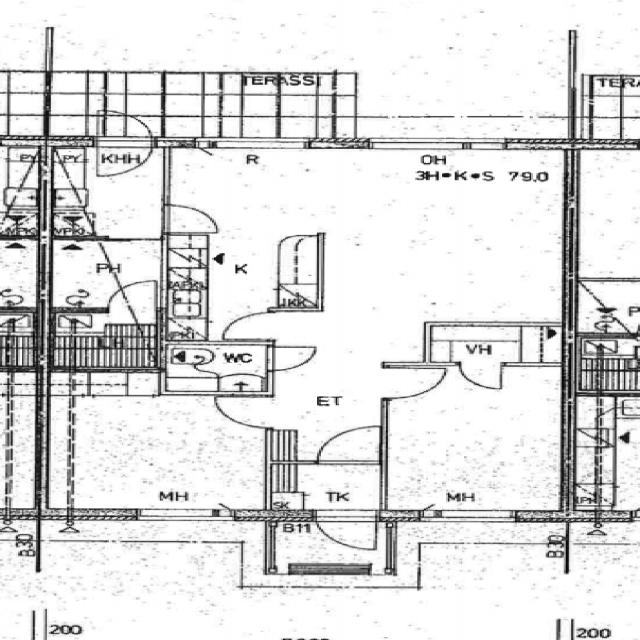door: (96, 114, 157, 176), (314, 424, 384, 464), (384, 364, 451, 401), (316, 512, 378, 550), (219, 309, 280, 343), (212, 394, 272, 428), (160, 202, 222, 234), (457, 360, 507, 393), (264, 344, 320, 373), (110, 278, 162, 308)
window: (364, 138, 469, 152), (426, 509, 517, 524), (134, 509, 224, 522)
zone: (170, 144, 569, 343), (39, 392, 269, 512), (382, 366, 564, 511), (50, 143, 169, 240), (562, 524, 640, 639), (43, 240, 162, 312), (577, 158, 640, 281), (48, 310, 160, 368), (163, 342, 273, 395), (276, 462, 386, 514), (574, 1, 640, 76), (426, 325, 559, 362), (576, 335, 640, 392), (574, 280, 640, 335), (46, 368, 161, 398), (1, 238, 42, 308), (166, 318, 209, 341), (586, 76, 629, 98)
